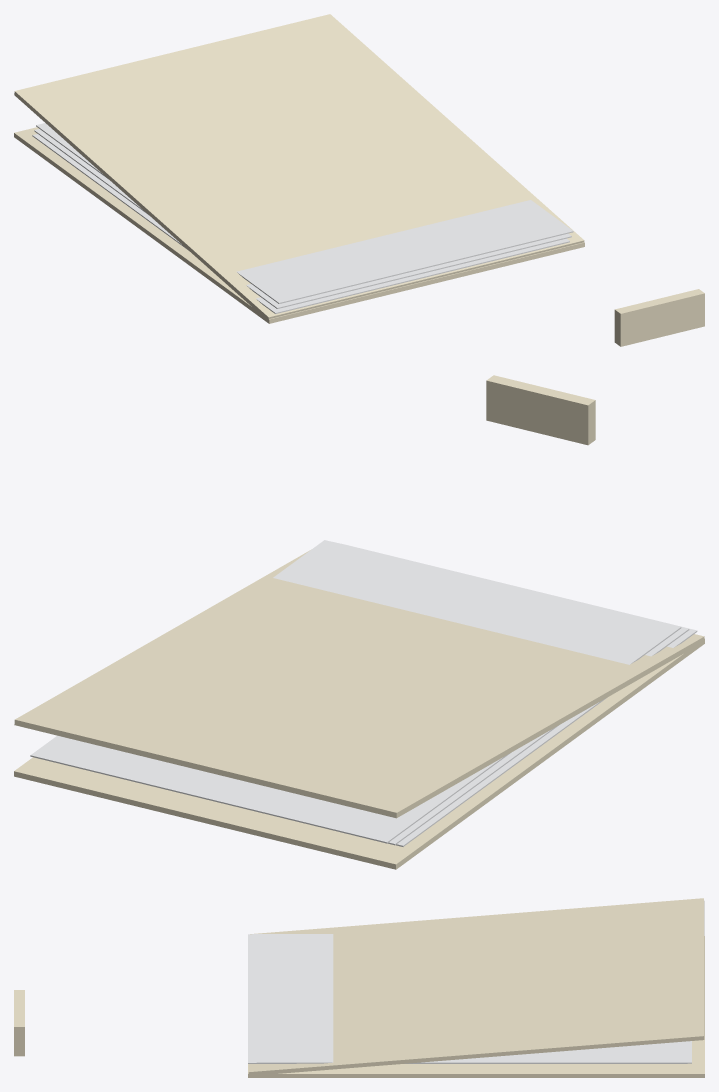
File: clinical_manila_folder.glb
3 views of the same model, one above another, from view 1: azimuth 30°, elevation 25°; view 2: azimuth 150°, elevation 25°; view 3: azimuth 270°, elevation 25° (orthographic). The views are drawn at different scales.
Parts seen in each view (by area): view 1: folder_top_flap, folder_paper_2, folder_bottom, folder_tab, folder_paper_0, folder_paper_1; view 2: folder_top_flap, folder_paper_2, folder_bottom, folder_tab, folder_paper_0, folder_paper_1; view 3: folder_top_flap, folder_paper_2, folder_bottom, folder_paper_1, folder_tab, folder_paper_0.
Part boxes in pixels (x1,y1,x2,y2): folder_top_flap: (14, 14, 584, 320); folder_paper_2: (36, 123, 573, 303); folder_bottom: (14, 127, 584, 323); folder_tab: (614, 289, 704, 346); folder_paper_0: (32, 134, 569, 313); folder_paper_1: (34, 129, 571, 308); folder_top_flap: (14, 549, 704, 818); folder_paper_2: (30, 540, 681, 843); folder_bottom: (14, 638, 704, 869); folder_tab: (486, 375, 595, 445); folder_paper_0: (341, 543, 697, 846); folder_paper_1: (335, 542, 689, 845); folder_top_flap: (248, 898, 704, 1075); folder_paper_2: (256, 934, 691, 1063); folder_bottom: (248, 936, 704, 1077); folder_paper_1: (252, 934, 687, 1063); folder_tab: (14, 990, 24, 1056); folder_paper_0: (248, 934, 252, 1063).
Size of the model in its own units: 0.15 by 0.0235 by 0.3175.
